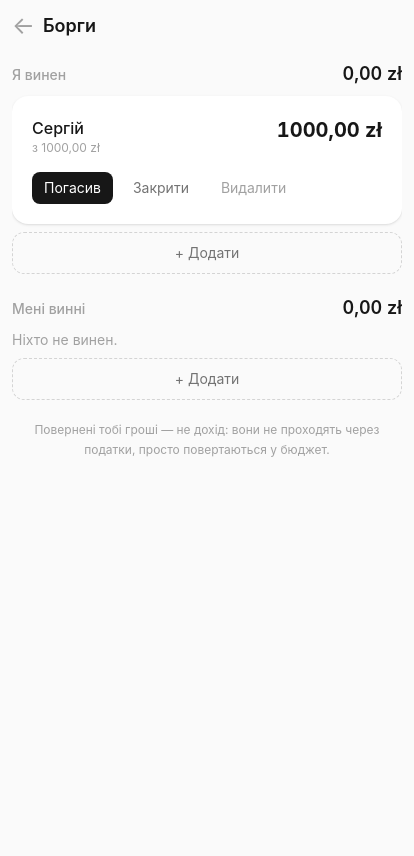
Debts › offers a jar as a source when paying somebody back
This screenshot has width=414, height=856.
Click the button "Погасив" at (72, 188), box [32,172,113,204]
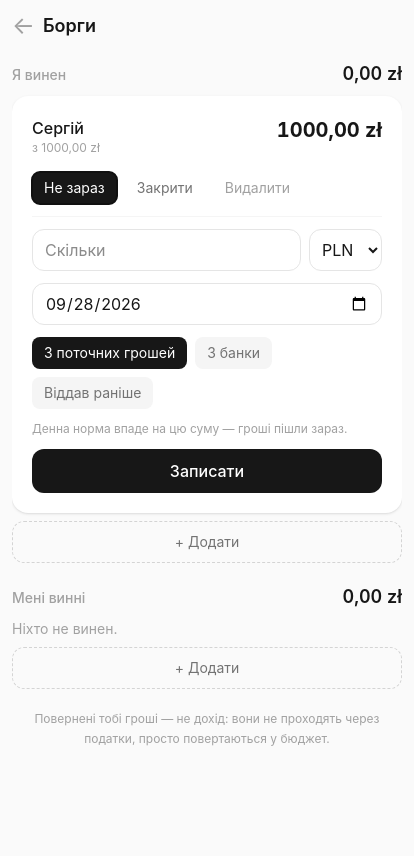
Expected: the button "З банки" is shown, [195,337,272,369]
